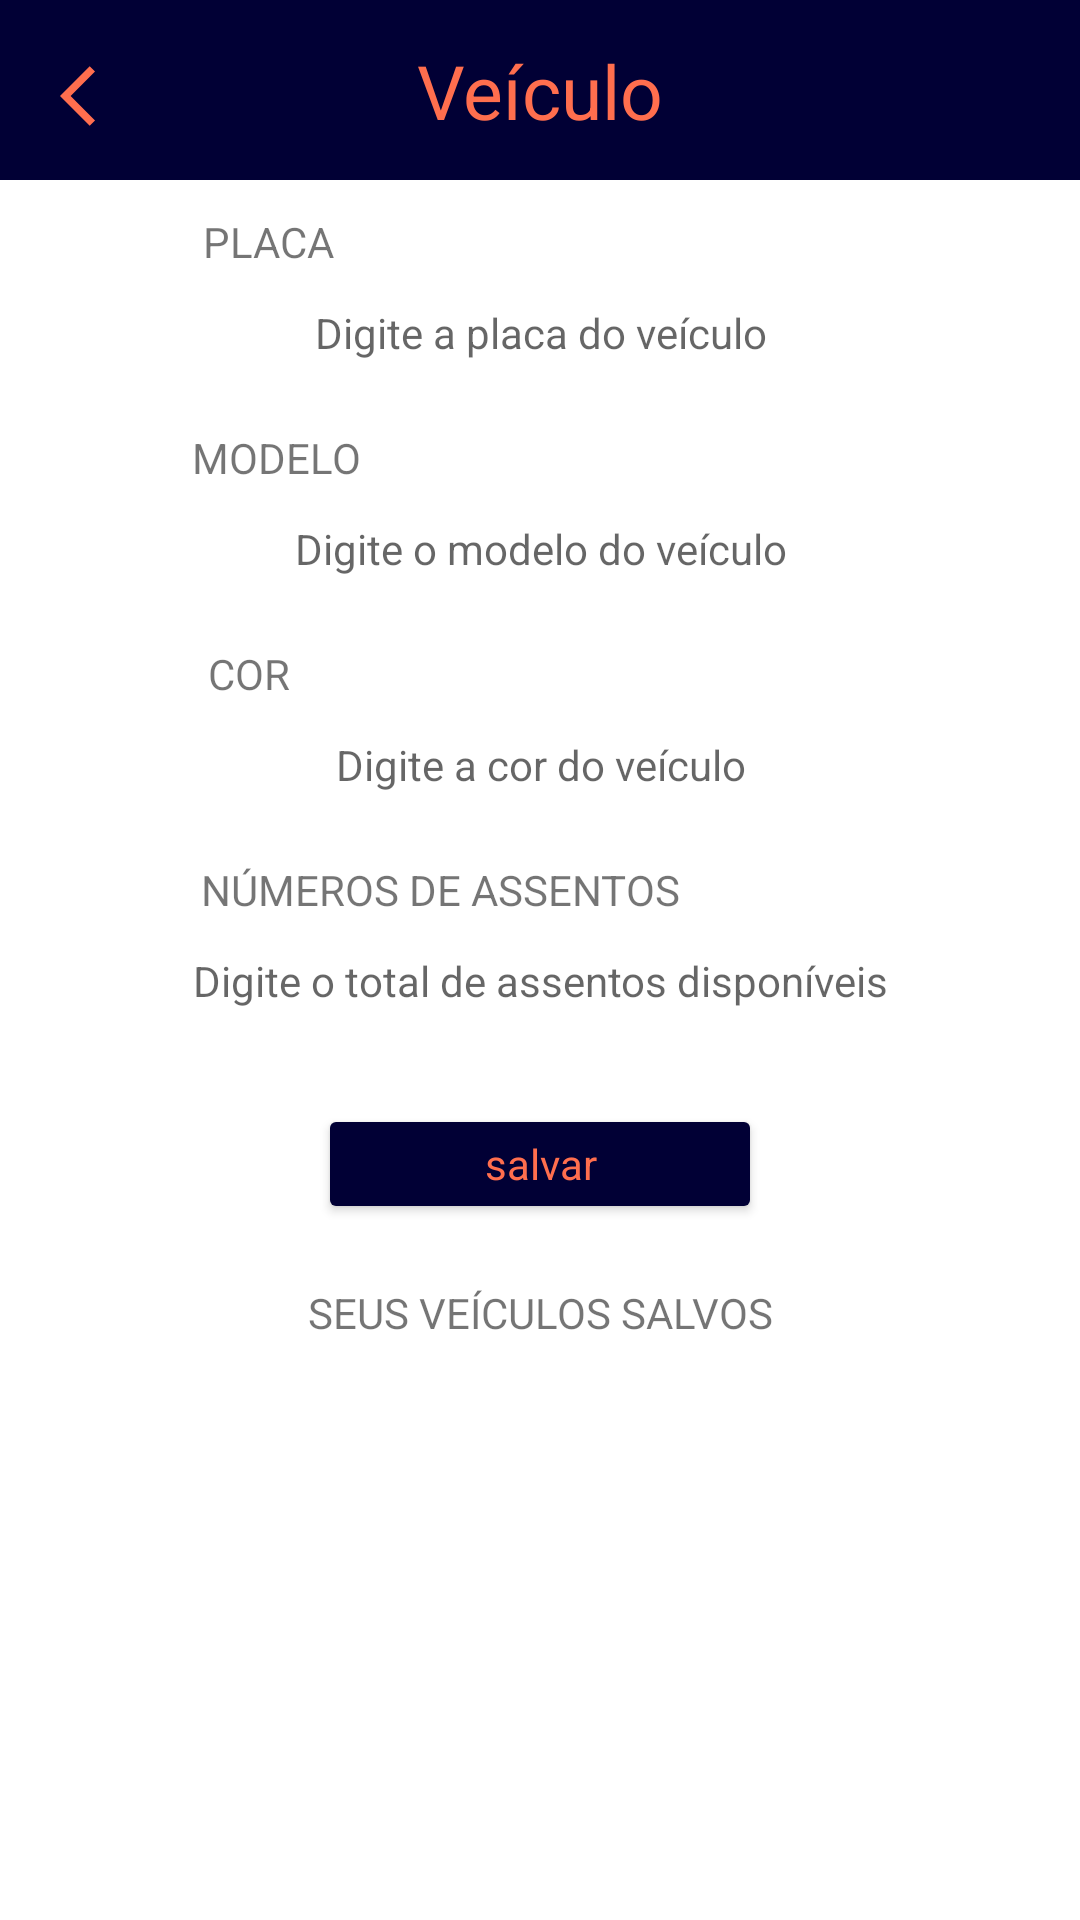

Icon bounding boxes for this 1080*1920 phone screenshot, format box=[x1, y1, x2, y2]:
arrow back: box=[60, 66, 95, 126]
